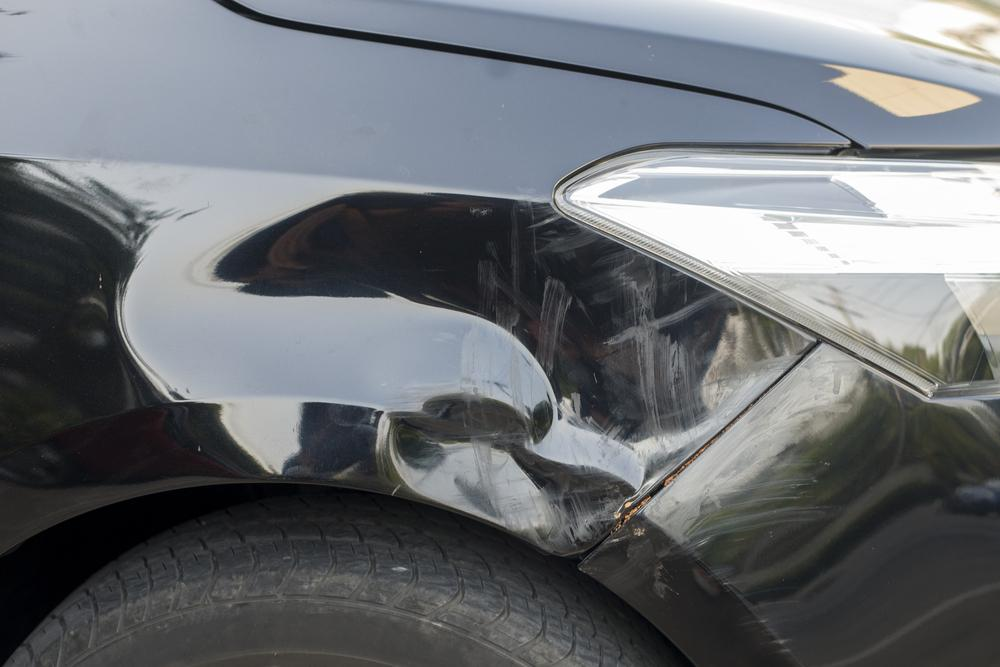dent: (130, 192, 810, 539)
scratch: (614, 346, 867, 658)
